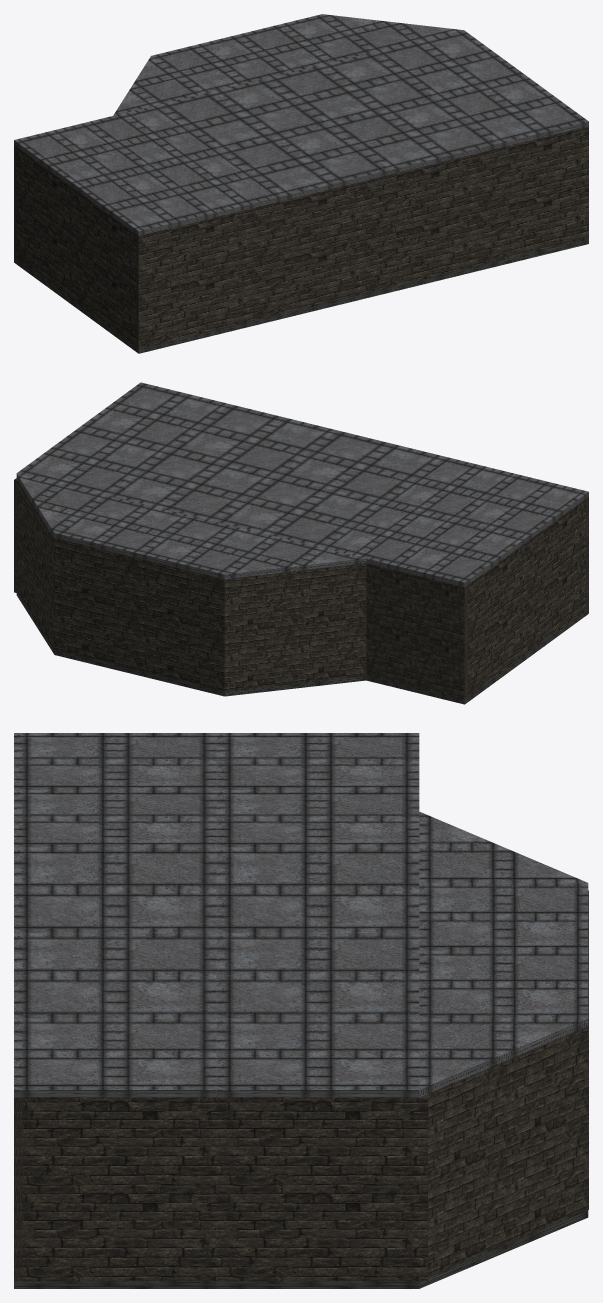
Rendered from dungeon4.fbx.
The picture shows the model from 3 angles, top to bottom: view 1: azimuth 30°, elevation 25°; view 2: azimuth 150°, elevation 25°; view 3: azimuth 270°, elevation 25°; orthographic projection. The views are drawn at different scales.
Parts seen in each view (by area): view 1: Roof, Wall2, Opening1, Floor; view 2: Roof, Opening3, Opening1, Floor, Opening2; view 3: Roof, Opening2, Opening3, Floor, Wall2.
Boxes of the visible parts, box(x1,y1,x2,y2) form: Roof: box(14, 14, 588, 235); Wall2: box(136, 126, 588, 348); Opening1: box(16, 147, 136, 346); Floor: box(14, 239, 588, 353); Roof: box(16, 382, 588, 587); Opening3: box(18, 481, 467, 699); Opening1: box(467, 499, 586, 697); Floor: box(16, 593, 588, 704); Opening2: box(14, 480, 18, 593); Roof: box(14, 733, 588, 1097); Opening2: box(22, 1094, 427, 1281); Opening3: box(428, 890, 588, 1277); Floor: box(14, 1210, 588, 1288); Wall2: box(14, 1097, 22, 1281).
Size of what is drawn, in the model's own units: 5000 by 1300 by 3404.
